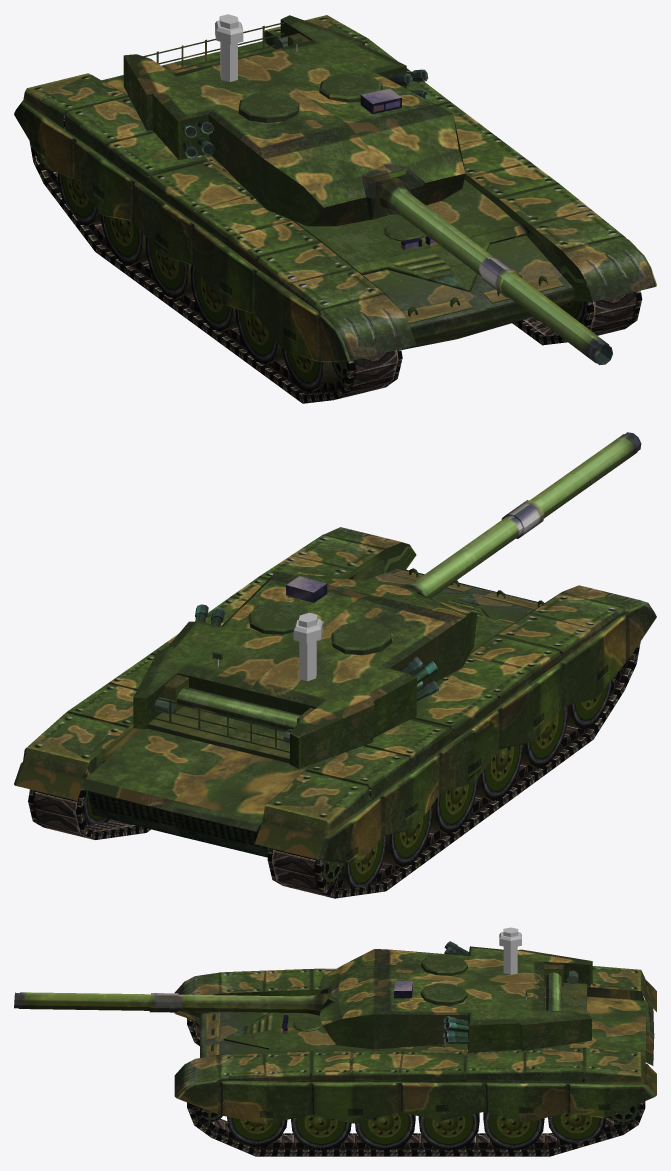
The model's file is China_1.fbx.
3 renders of one model, top to bottom at view 1: azimuth 30°, elevation 25°; view 2: azimuth 150°, elevation 25°; view 3: azimuth 270°, elevation 25°, orthographic. The views are drawn at different scales.
Visible parts, largest first — view 1: polySurface432, polySurface368, polySurface367, polySurface1; view 2: polySurface432, polySurface368, polySurface367, polySurface1; view 3: polySurface432, polySurface368, polySurface367, polySurface1.
Boxes of the visible parts, left/top/right/bottom form: polySurface432: left=14, top=15, right=656, bottom=391; polySurface368: left=123, top=14, right=465, bottom=226; polySurface367: left=29, top=111, right=642, bottom=403; polySurface1: left=376, top=178, right=612, bottom=364; polySurface432: left=14, top=527, right=656, bottom=888; polySurface368: left=133, top=571, right=477, bottom=768; polySurface367: left=28, top=642, right=640, bottom=898; polySurface1: left=399, top=432, right=641, bottom=597; polySurface432: left=174, top=966, right=656, bottom=1150; polySurface368: left=319, top=927, right=592, bottom=1052; polySurface367: left=187, top=988, right=645, bottom=1156; polySurface1: left=14, top=992, right=328, bottom=1015.
Bounding box in the file's own units: 7.95 × 5.5 × 19.83.
